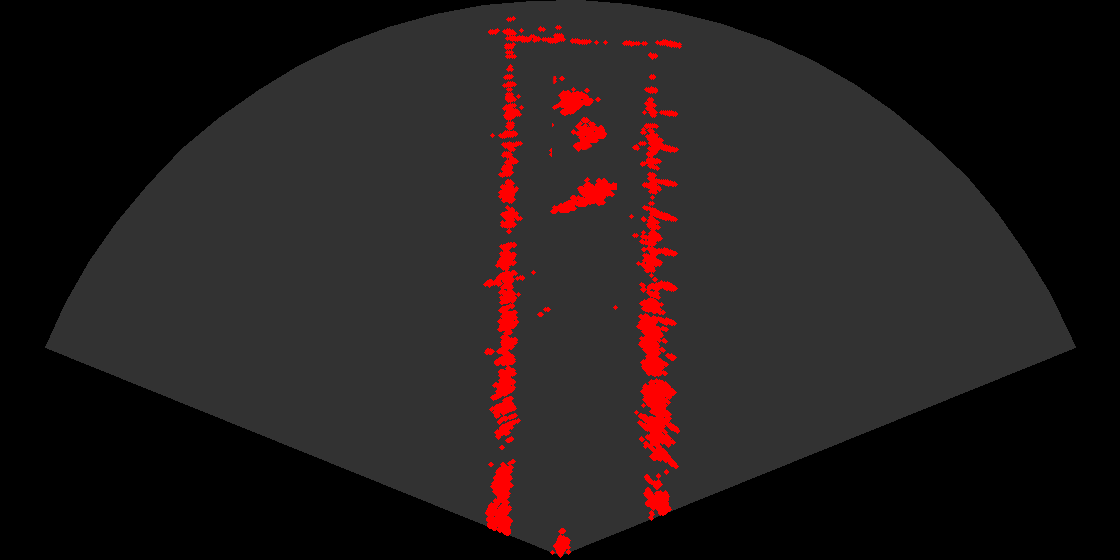AUV: (543, 135, 599, 167)
cage: (552, 76, 615, 160)
frogman: (549, 171, 617, 218)
